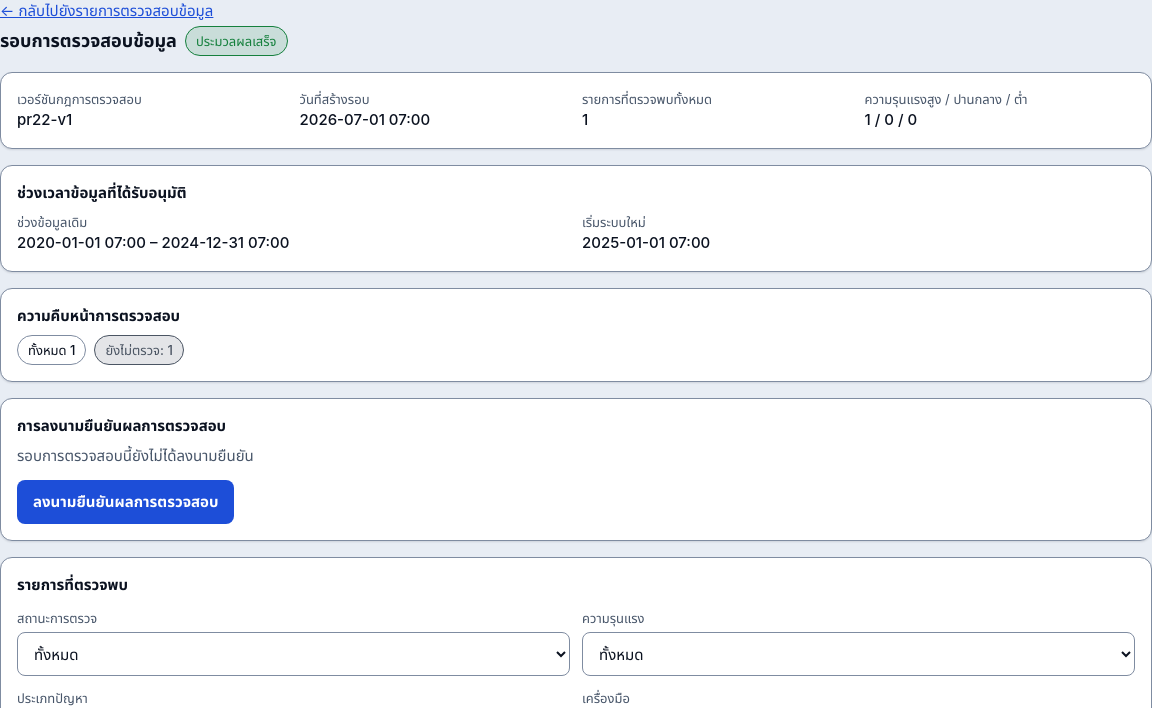
Test: ReconciliationRunDetailPage -- sign-off › on ALREADY_EXISTS refetches and displays the existing attestation
Click the button "ลงนามยืนยันผลการตรวจสอบ": (126, 502) [17,480,234,524]
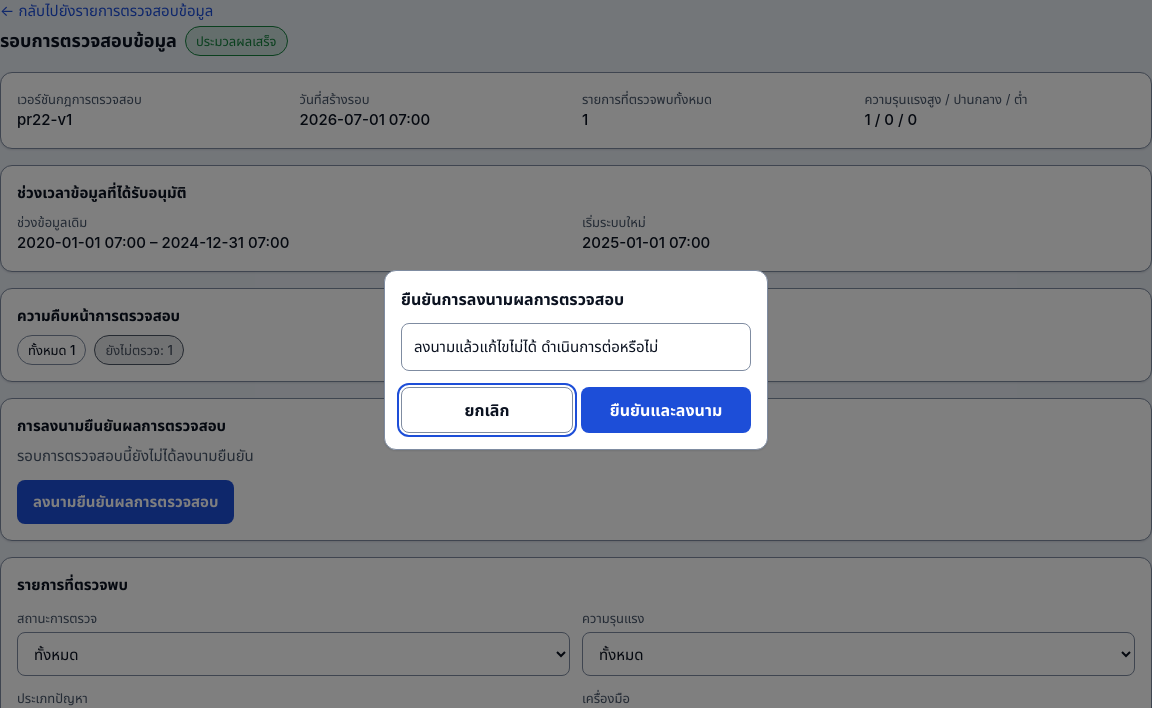
Click the button "ยืนยันและลงนาม": (666, 410) [581,387,751,433]
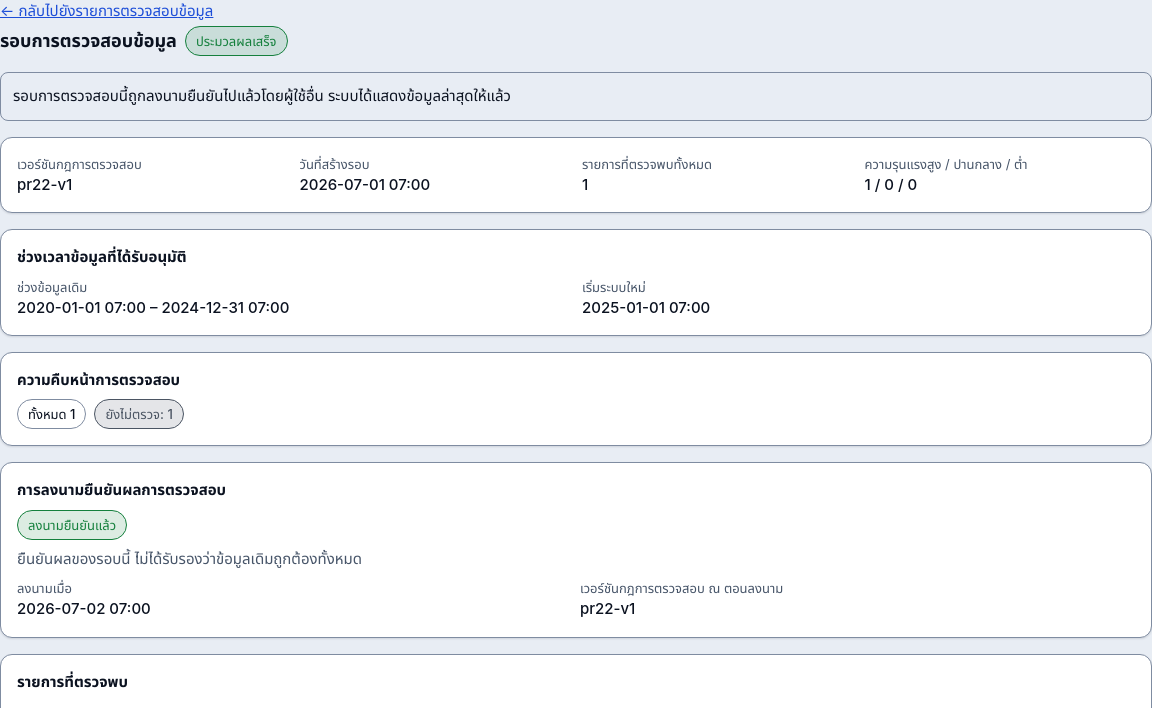
Now the text "ลงนามยืนยันแล้ว" is shown, box [17,510,127,540]
